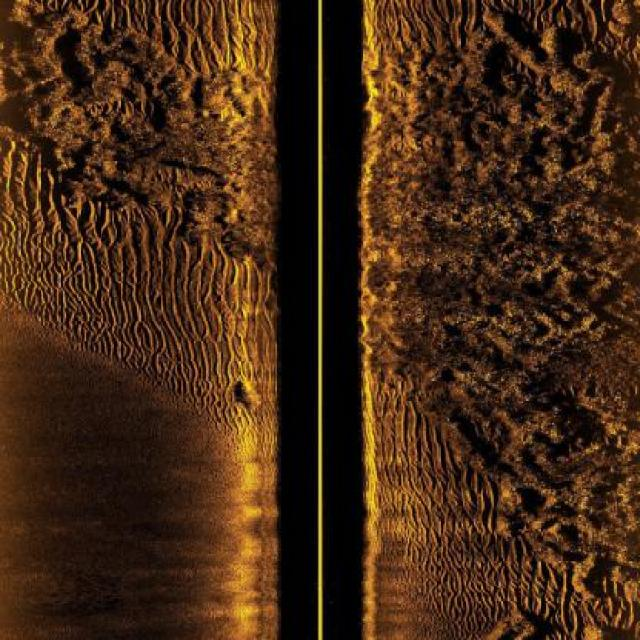other: (240, 373, 260, 415)
